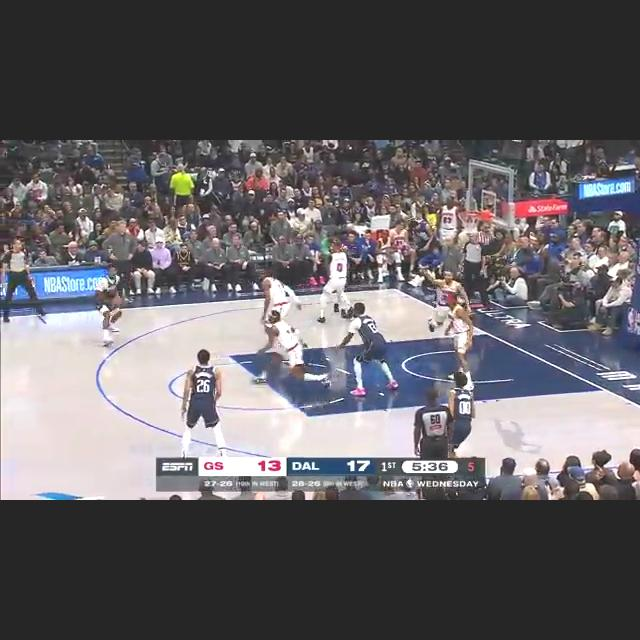Ball: (110, 292, 126, 310)
Team-1-Player: (332, 300, 402, 394), (180, 346, 228, 456), (91, 263, 131, 349), (442, 370, 478, 450)
Team-2-Player: (249, 308, 333, 392), (444, 296, 481, 386), (252, 266, 306, 326), (319, 242, 359, 316), (421, 262, 471, 304)
